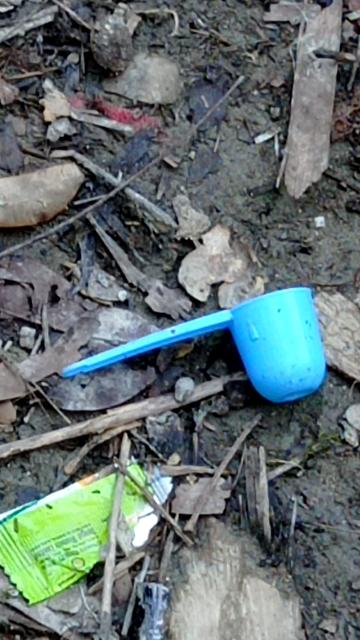hardplastic: (230, 279, 331, 405)
